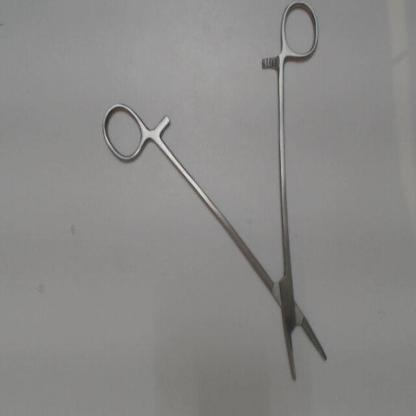8 Mayo Needle Holder: (94, 1, 336, 400)
